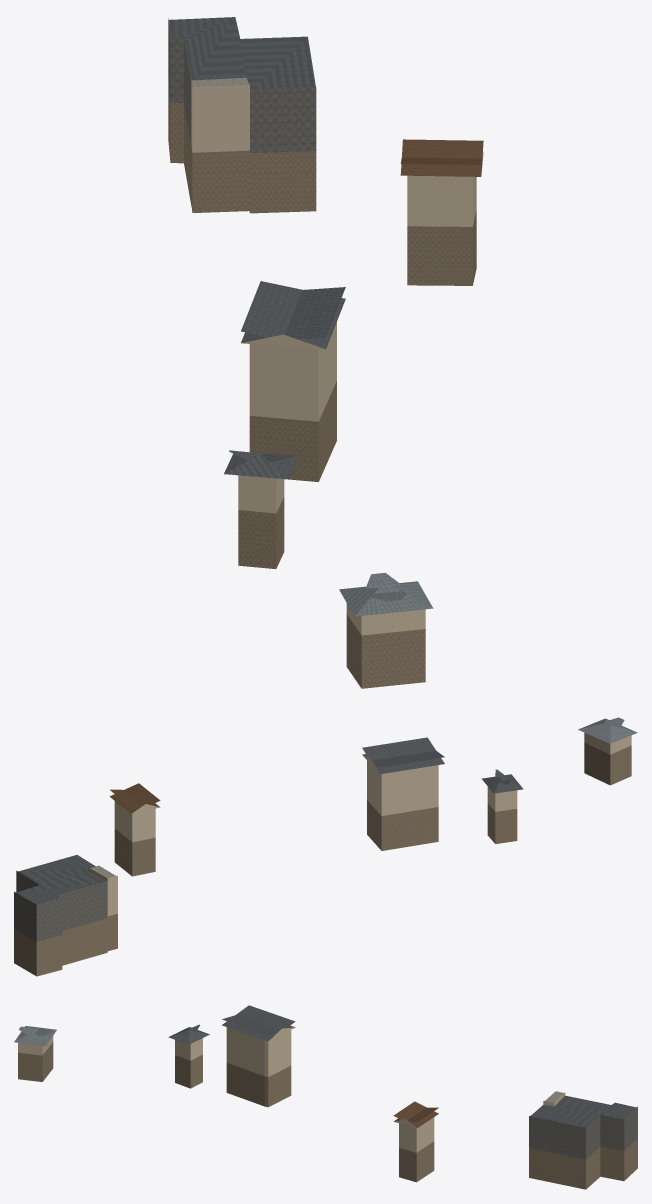
The model's file is bld_c40_-49_460.gltf.
The picture shows the model from 3 angles, top to bottom: view 1: azimuth 30°, elevation 25°; view 2: azimuth 150°, elevation 25°; view 3: azimuth 270°, elevation 25°; orthographic projection. The views are drawn at different scales.
Visible parts, largest first — view 1: bld_c40_-49_460; view 2: bld_c40_-49_460; view 3: bld_c40_-49_460.
Part boxes in pixels (bbox=[...]): bld_c40_-49_460: bbox=[168, 17, 483, 688]; bld_c40_-49_460: bbox=[14, 717, 637, 976]; bld_c40_-49_460: bbox=[14, 1005, 637, 1189].
Bounding box in the file's own units: 46.09 × 14.7 × 95.56.
Materials: 9 (9 with a texture image).
